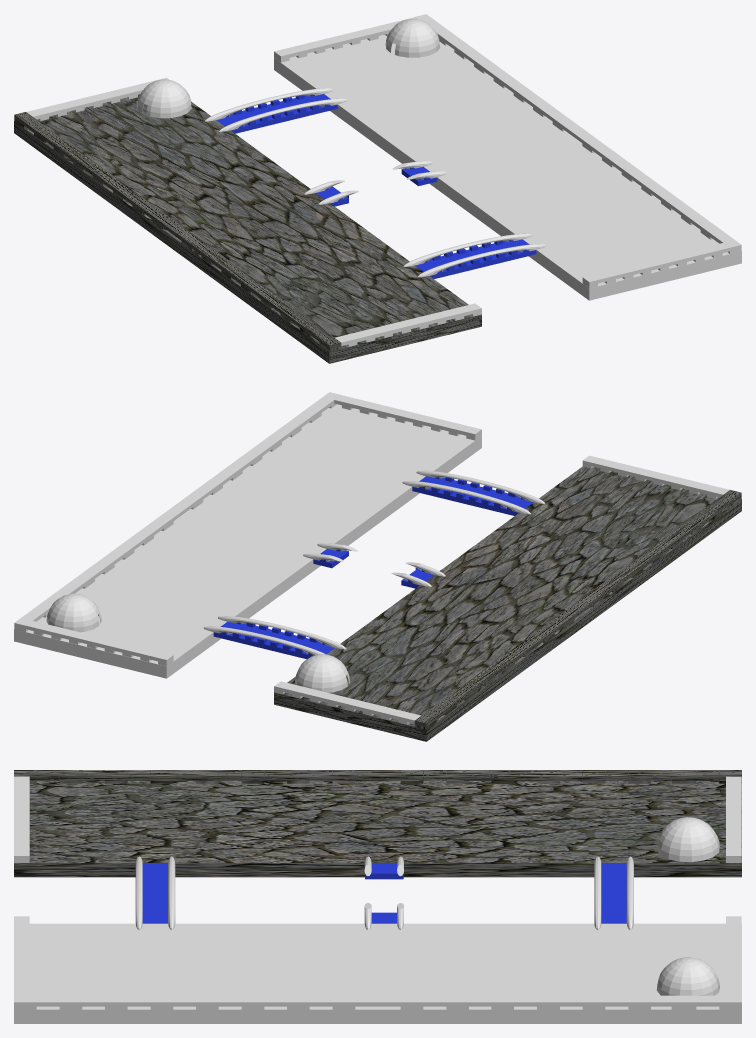
File: StageBridge.gltf
3 renders of one model, top to bottom at view 1: azimuth 30°, elevation 25°; view 2: azimuth 150°, elevation 25°; view 3: azimuth 270°, elevation 25°, orthographic. The views are drawn at different scales.
Visible parts, largest first — view 1: Cube.001, Cube.002, Cube.005, Cube.009, Cube.003, Cube, Cube.008, Cube.007, Sphere, Sphere.001, Cube.010, Cube.006 (+5 smaller); view 2: Cube.001, Cube.002, Cube.005, Cube.009, Cube.003, Cube, Cube.008, Cube.010, Cube.006, Cube.007, Sphere.001, Sphere (+5 smaller); view 3: Cube.002, Cube.001, Cube.009, Cube.005, Sphere, Sphere.001, Cube.003, Cube, Cube.006, Cube.007, Cube.008, Cube.010 (+5 smaller).
Boxes of the visible parts, <box> form: Cube.001: <box>274,34,741,300</box>; Cube.002: <box>14,94,481,363</box>; Cube.005: <box>14,112,341,351</box>; Cube.009: <box>415,14,741,253</box>; Cube.003: <box>415,239,536,278</box>; Cube: <box>216,94,337,133</box>; Cube.008: <box>582,243,729,288</box>; Cube.007: <box>335,303,481,346</box>; Sphere: <box>137,79,191,118</box>; Sphere.001: <box>385,18,440,57</box>; Cube.010: <box>274,17,417,62</box>; Cube.006: <box>26,77,169,120</box>; Cube.001: <box>14,404,481,678</box>; Cube.002: <box>274,466,741,741</box>; Cube.005: <box>414,490,741,730</box>; Cube.009: <box>14,392,340,631</box>; Cube.003: <box>412,476,533,515</box>; Cube: <box>213,621,334,659</box>; Cube.008: <box>334,395,481,440</box>; Cube.010: <box>26,621,173,666</box>; Cube.006: <box>274,681,420,724</box>; Cube.007: <box>582,455,729,498</box>; Sphere.001: <box>46,593,101,632</box>; Sphere: <box>295,654,349,692</box>; Cube.002: <box>14,781,741,877</box>; Cube.001: <box>14,923,741,1023</box>; Cube.009: <box>14,995,741,1009</box>; Cube.005: <box>14,770,741,783</box>; Sphere: <box>657,817,719,861</box>; Sphere.001: <box>656,957,719,995</box>; Cube.003: <box>142,863,168,923</box>; Cube: <box>601,863,626,923</box>; Cube.006: <box>726,776,741,862</box>; Cube.007: <box>14,776,29,862</box>; Cube.008: <box>14,916,29,995</box>; Cube.010: <box>726,916,741,995</box>.
Bounding box in the file's own units: 70.75 × 6.12 × 93.66.
3 materials, 2 textured.
